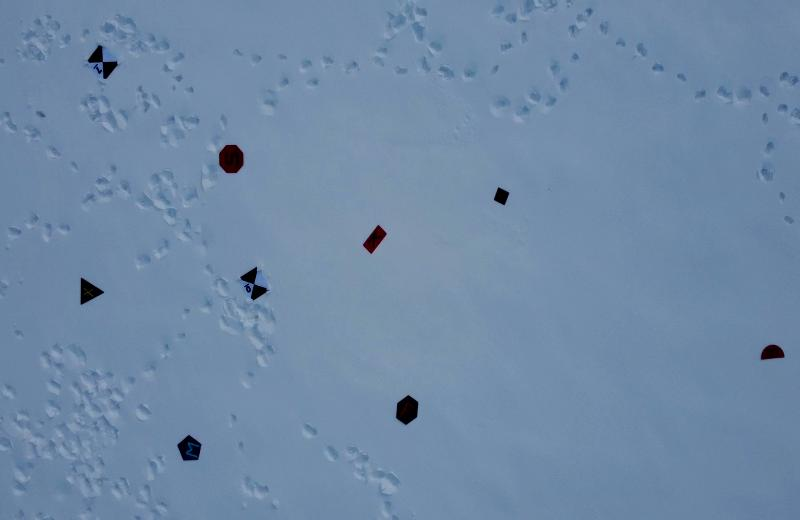Hexagon: (394, 389, 424, 424)
Octagon: (210, 139, 252, 178)
Pentagon: (174, 435, 204, 467)
Rectangle: (360, 222, 390, 257)
Semi Circle: (758, 344, 788, 366)
Square: (488, 184, 514, 209)
Triangle: (74, 271, 111, 308)
